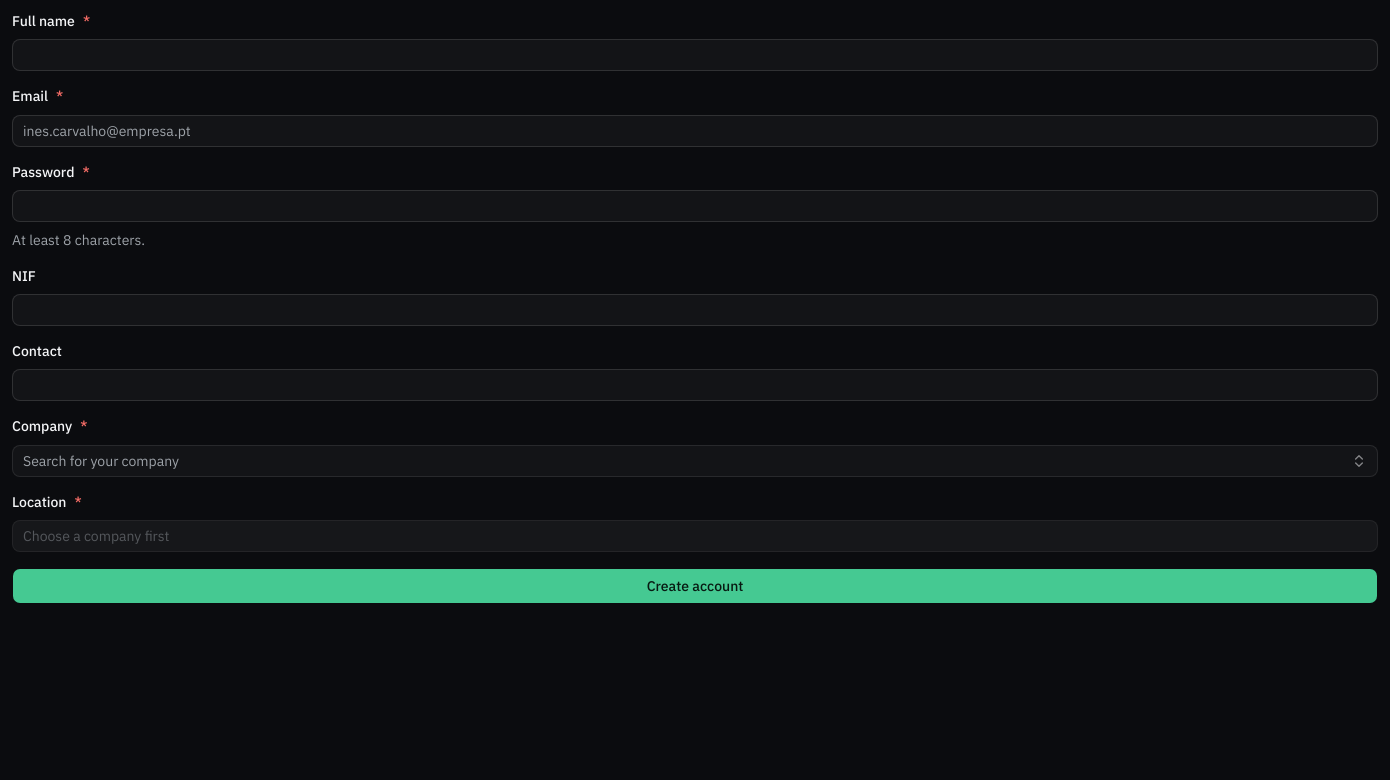
Test: shows every validation error without submitting
Type "123456780" into the field labelled "NIF" at [695, 310], box left=12, top=294, right=1378, bottom=326
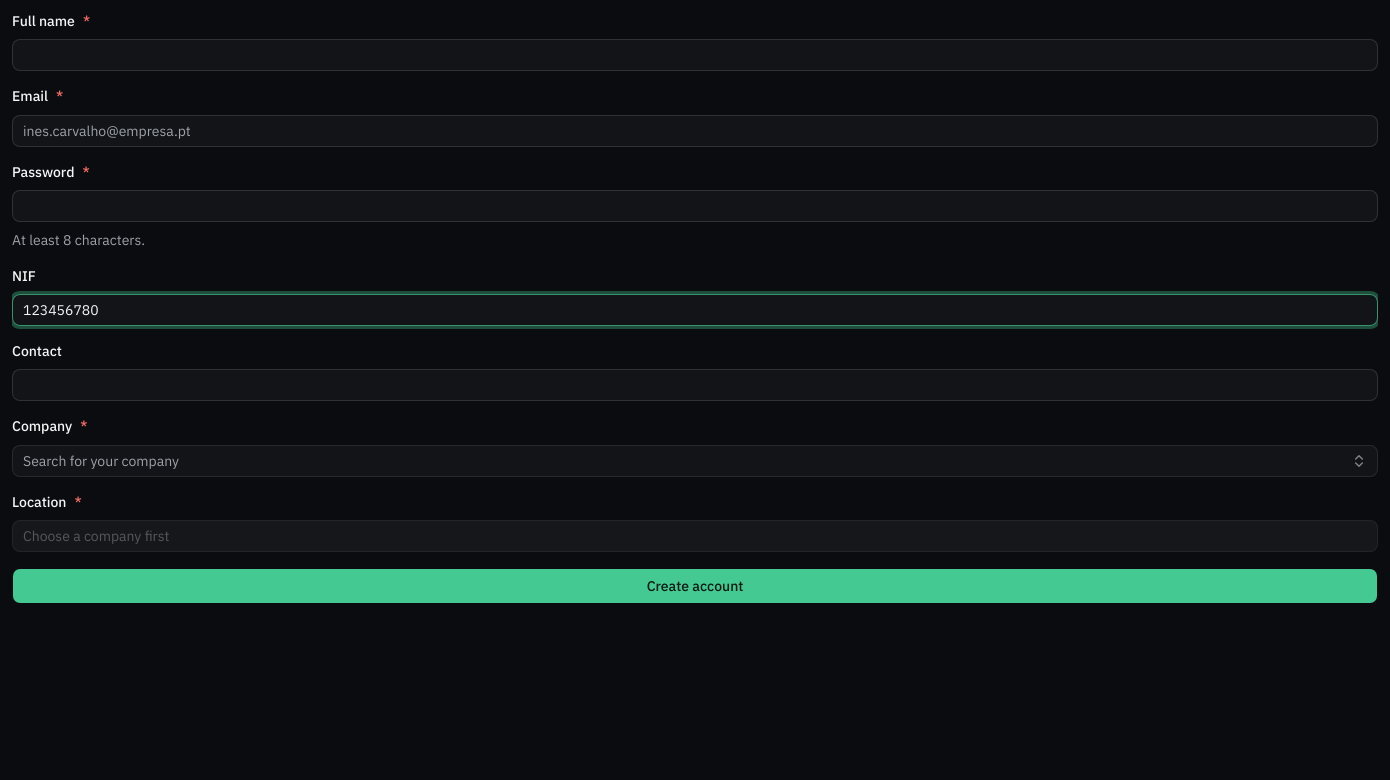
Click the button "Create account" at [695, 586], box left=12, top=568, right=1378, bottom=604
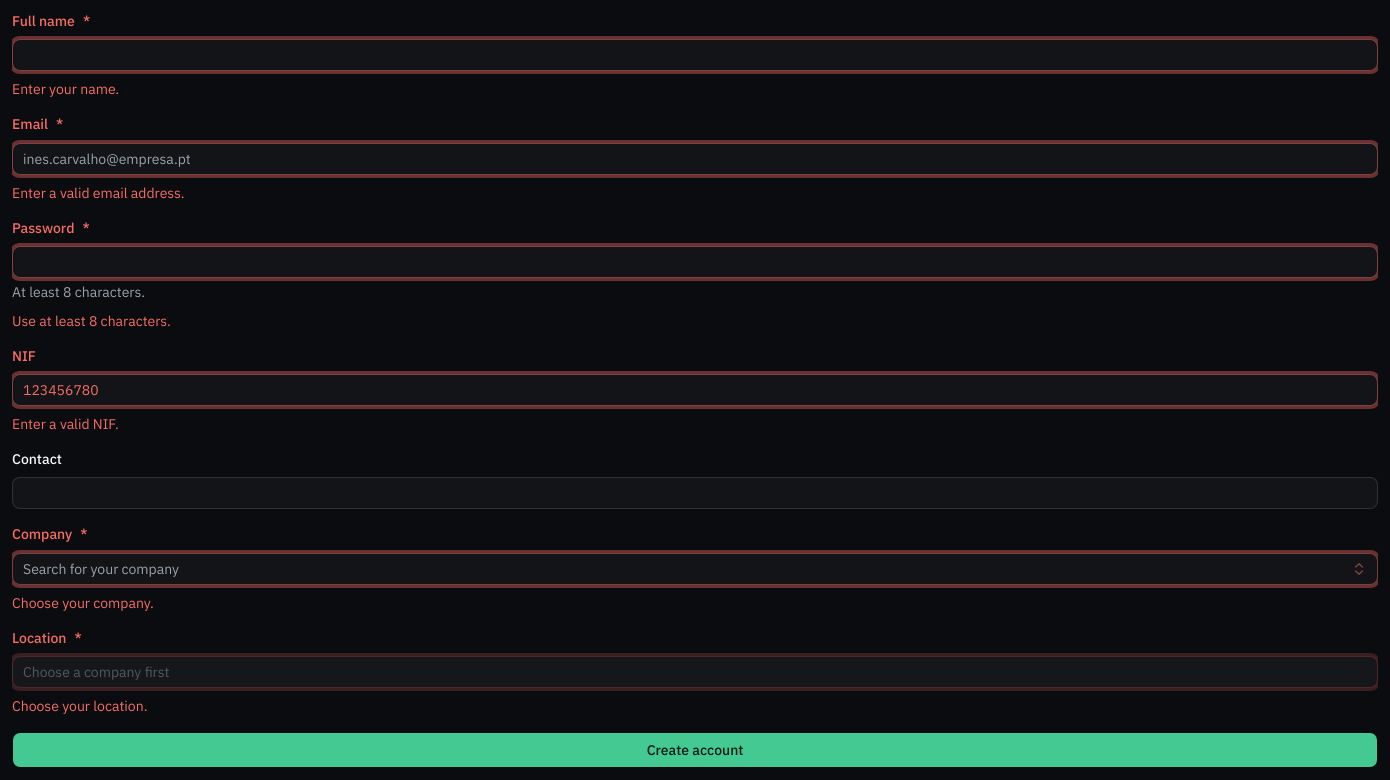
Result: the text "Enter your name." is shown at left=12, top=80, right=119, bottom=98
Result: the text "Enter a valid email address." is shown at left=12, top=184, right=185, bottom=202
Result: the text "Use at least 8 characters." is shown at left=12, top=312, right=171, bottom=330
